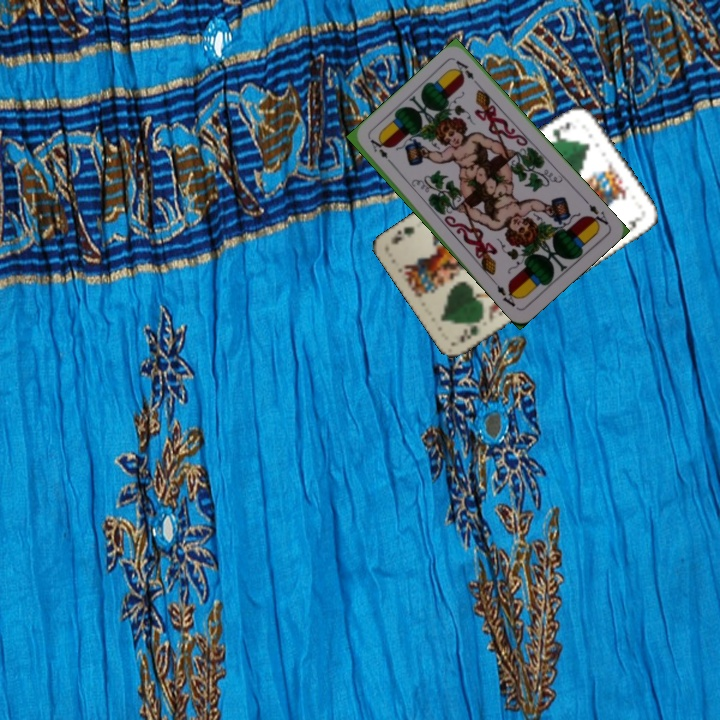EA: (580, 195, 612, 230), (366, 135, 397, 169)
GK: (546, 117, 573, 147), (455, 321, 481, 346)
